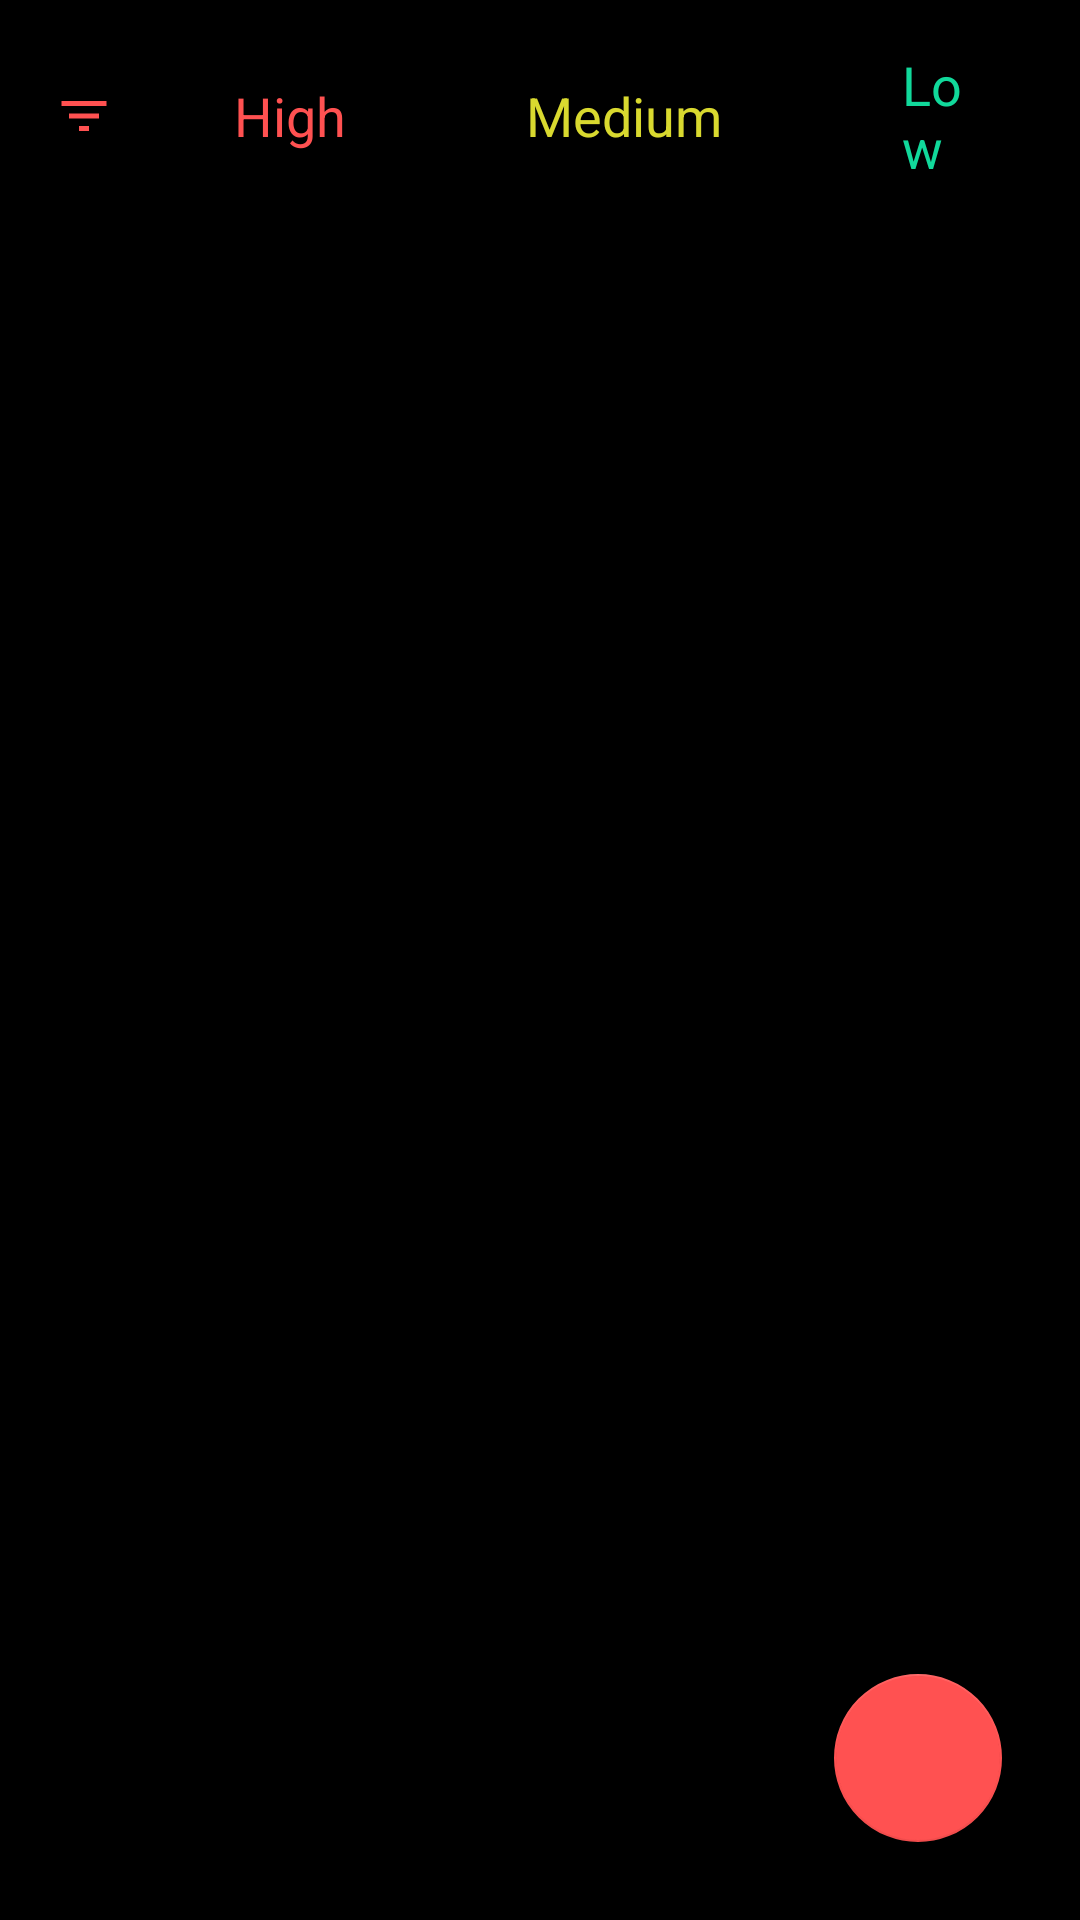

Where to tap for icons on this 1080 × 1920 app screen, as (x,y):
filter: (84,116)
